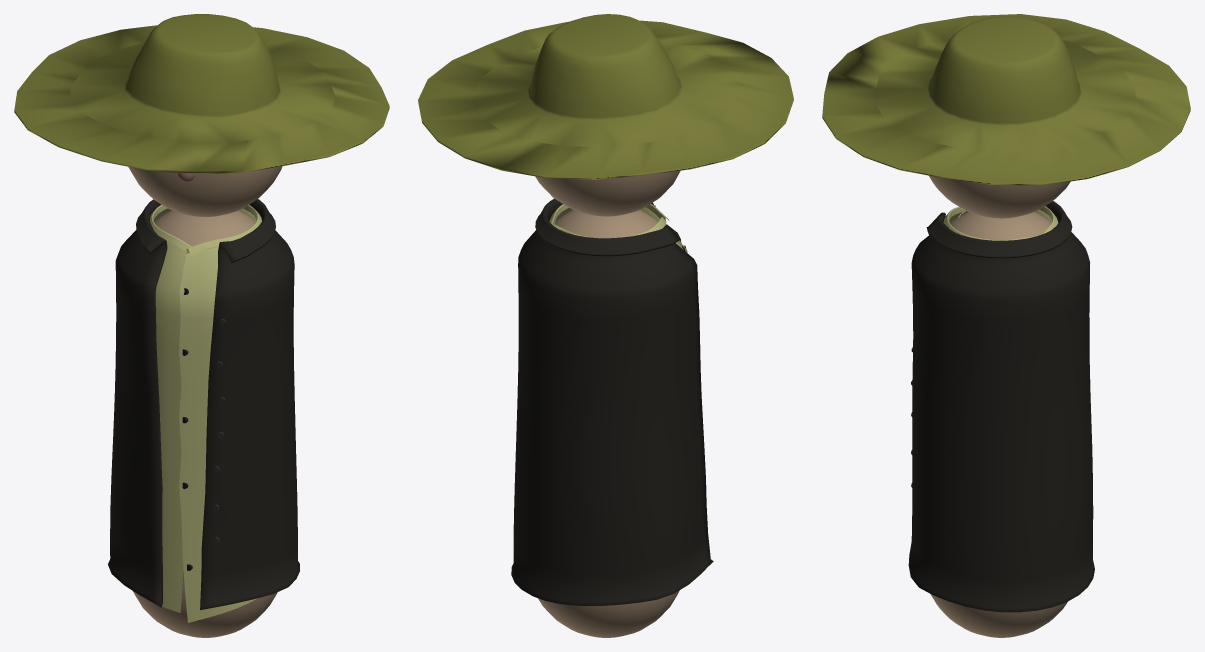
File: Person1.fbx
The picture shows the model from 3 angles, left to right: view 1: azimuth 30°, elevation 25°; view 2: azimuth 150°, elevation 25°; view 3: azimuth 270°, elevation 25°; orthographic projection.
Visible parts, largest first — view 1: Jacket.006, Hat.006, Shirt.006, Player1_Body.006, Head.006; view 2: Jacket.006, Hat.006, Player1_Body.006, Head.006, Shirt.006; view 3: Jacket.006, Hat.006, Player1_Body.006, Head.006, Shirt.006.
Part boxes in pixels (<box>): Jacket.006: <box>108,199,299,610</box>; Hat.006: <box>14,14,389,174</box>; Shirt.006: <box>150,204,261,622</box>; Player1_Body.006: <box>133,210,277,637</box>; Head.006: <box>128,166,282,216</box>; Jacket.006: <box>511,198,713,605</box>; Hat.006: <box>418,14,793,179</box>; Player1_Body.006: <box>538,210,679,637</box>; Head.006: <box>535,170,680,216</box>; Shirt.006: <box>549,204,687,252</box>; Jacket.006: <box>908,201,1094,612</box>; Hat.006: <box>822,14,1190,185</box>; Player1_Body.006: <box>930,212,1067,637</box>; Head.006: <box>928,175,1070,218</box>; Shirt.006: <box>943,206,1058,240</box>.
Size of the model in its own units: 35.46 by 61.8 by 34.71.
